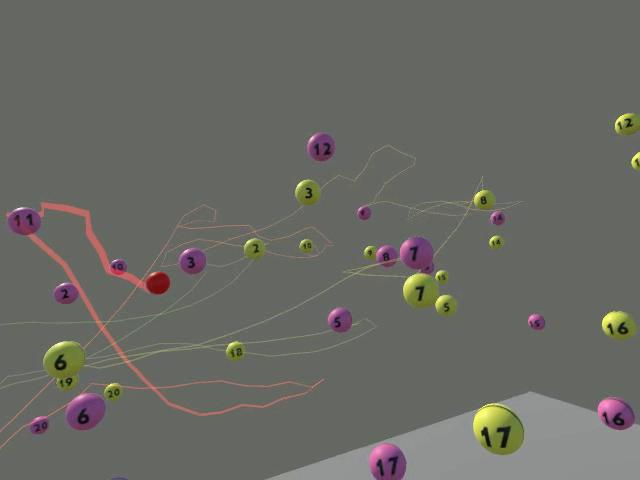ball_02_pink: (53, 282, 78, 304)
ball_02_yellow: (243, 237, 265, 259)
ball_03_pink: (178, 247, 206, 274)
ball_03_yellow: (294, 178, 320, 206)
ball_05_pink: (327, 307, 352, 332)
ball_05_yellow: (434, 294, 457, 316)
ball_06_pink: (65, 392, 105, 430)
ball_06_yellow: (42, 340, 85, 378)
ball_07_pink: (399, 236, 433, 269)
ball_07_yellow: (402, 272, 439, 308)
ball_08_pink: (375, 245, 398, 267)
ball_08_yellow: (473, 189, 495, 209)
ball_09_pink: (356, 205, 371, 220)
ball_09_yellow: (363, 245, 376, 259)
ball_10_yellow: (298, 238, 313, 253)
ball_11_pink: (6, 206, 41, 235)
ball_12_pink: (306, 132, 334, 161)
ball_12_yellow: (614, 112, 639, 135)
ball_14_pink: (489, 210, 505, 225)
ball_14_yellow: (488, 234, 503, 248)
ball_15_pink: (527, 313, 545, 330)
ball_15_yellow: (434, 269, 448, 283)
ball_16_pink: (596, 397, 634, 430)
ball_16_yellow: (601, 310, 636, 340)
ball_17_pink: (367, 443, 406, 479)
ball_17_yellow: (472, 402, 523, 455)
ball_18_yellow: (225, 340, 245, 360)
ball_19_yellow: (56, 374, 78, 390)
ball_20_pink: (29, 414, 48, 433)
ball_20_yellow: (103, 382, 122, 400)
ball_unknown: (109, 258, 127, 274), (417, 261, 434, 274), (630, 151, 639, 171), (110, 476, 128, 479)
user_cursor: (145, 271, 170, 294)
